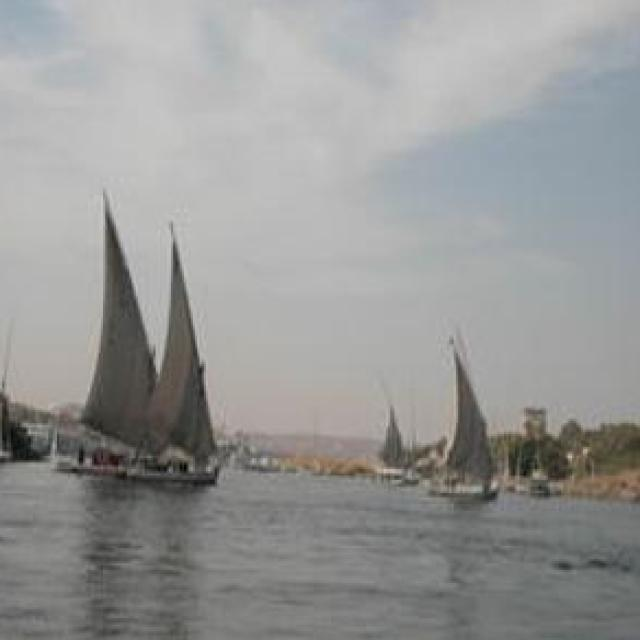sailboat: (123, 214, 248, 482), (54, 190, 166, 472), (433, 337, 507, 504), (365, 372, 404, 487)
